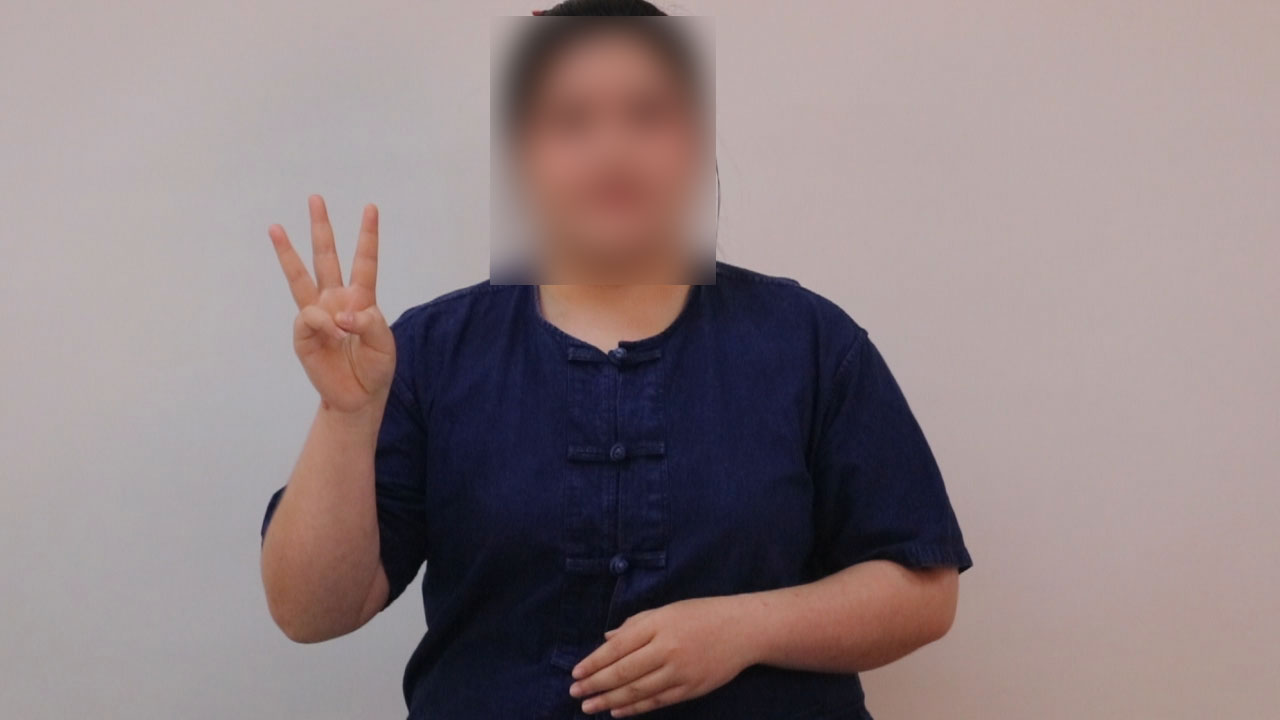wor: (258, 185, 404, 412)
